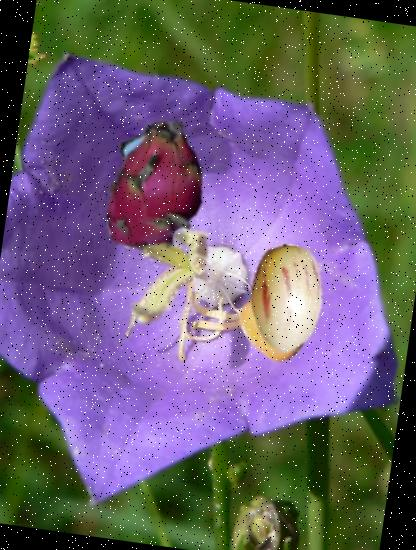Kumquats: (230, 284, 316, 368)
Pepino: (224, 237, 350, 363)
Pitahaya: (75, 106, 235, 266)
